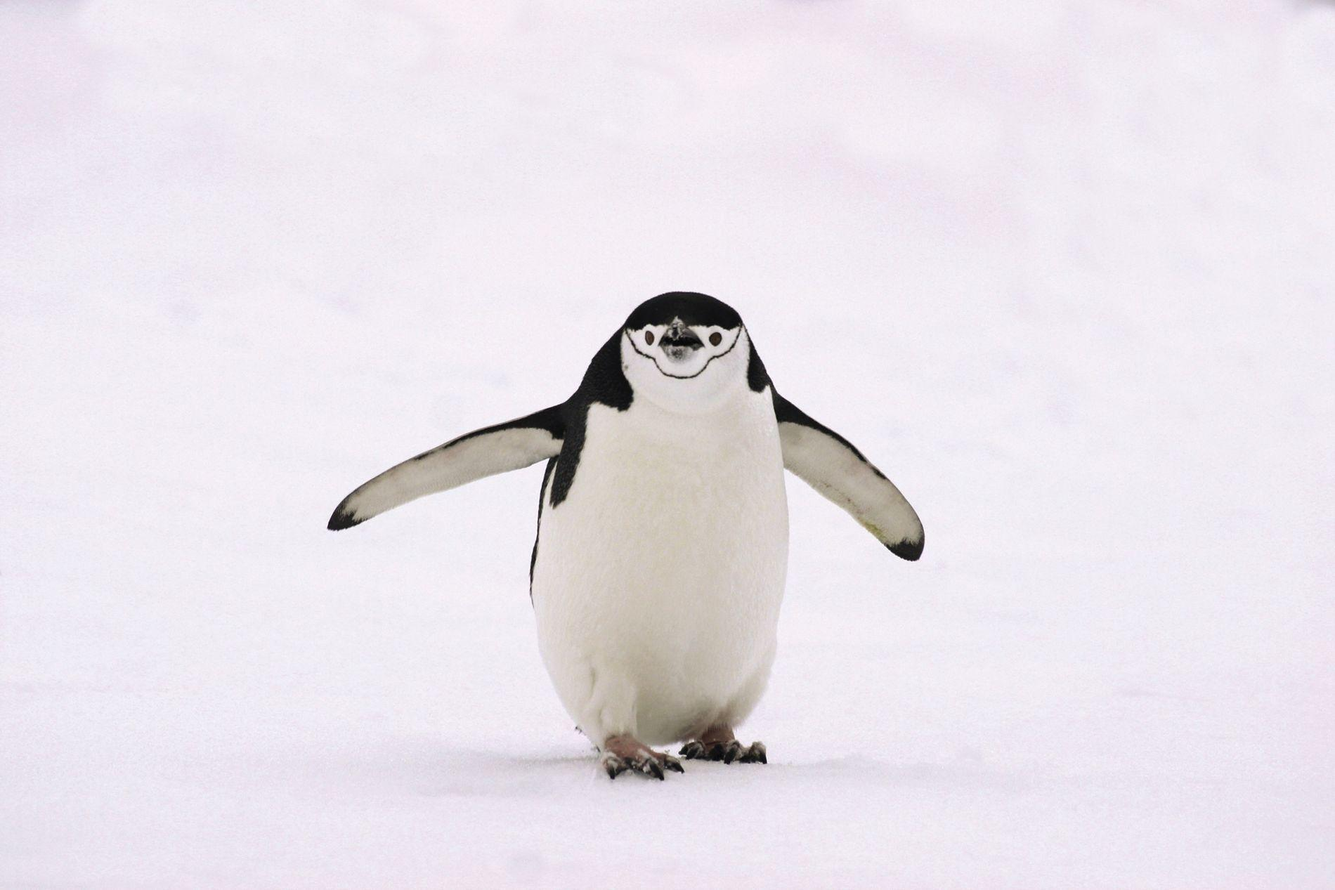Penguin: (329, 292, 925, 778)
